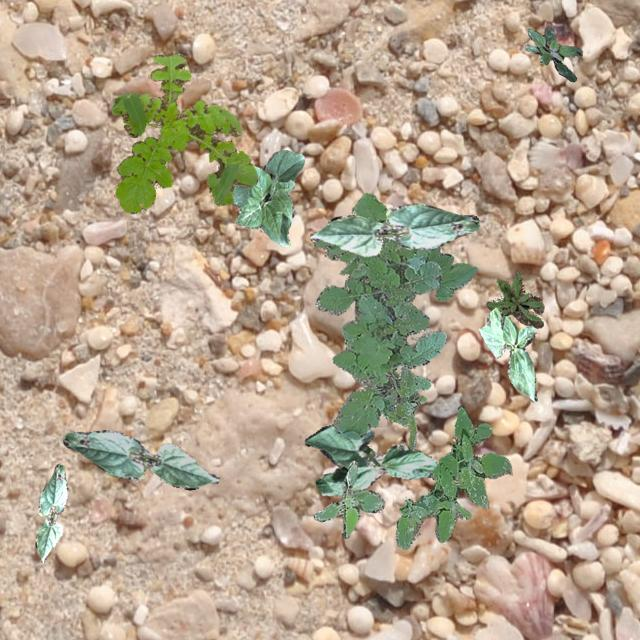crop: (304, 424, 436, 496), (61, 428, 218, 488), (308, 202, 480, 256), (338, 244, 476, 302), (230, 150, 304, 246), (478, 306, 536, 401), (34, 462, 66, 562)
weed: (312, 192, 446, 438), (110, 52, 256, 212), (394, 404, 512, 548), (312, 460, 383, 538), (384, 366, 424, 448), (484, 272, 542, 326), (524, 26, 580, 80)
